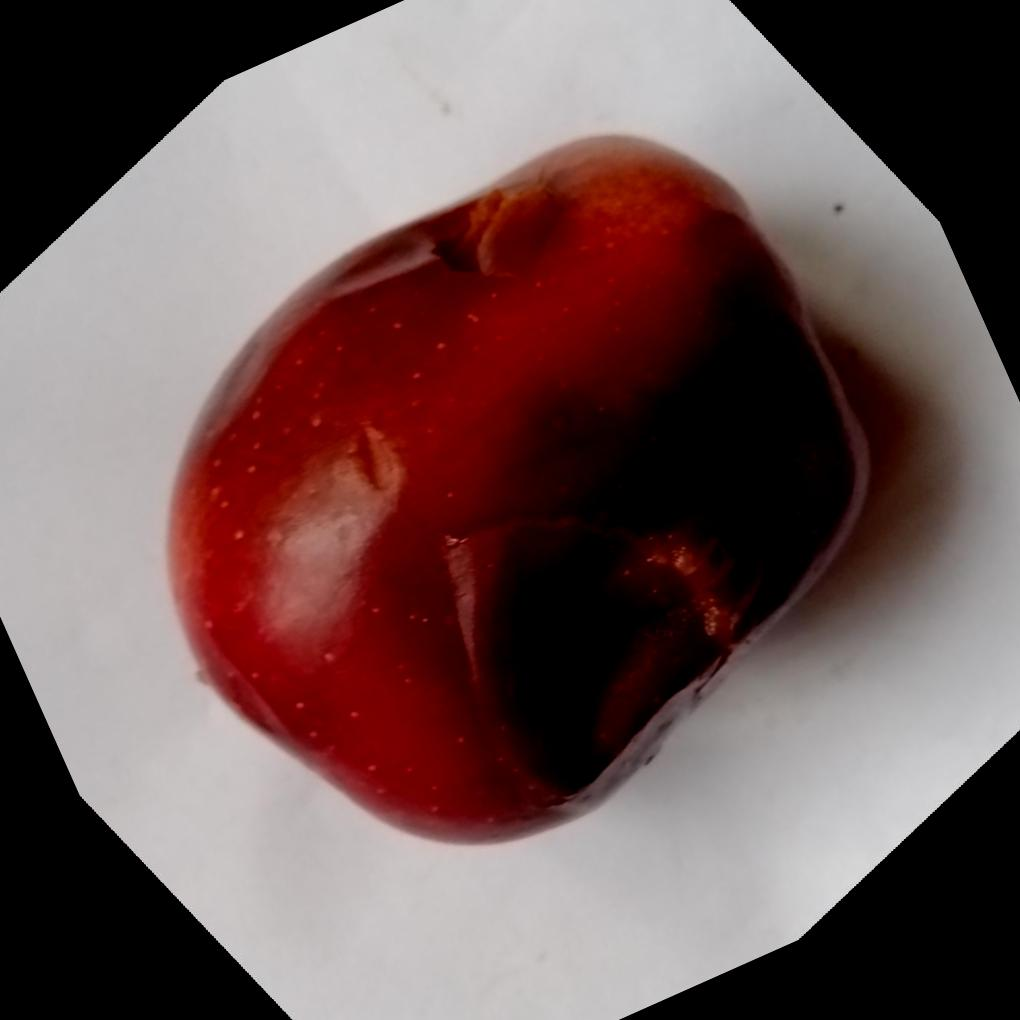FreshOrange: (162, 129, 873, 845)
